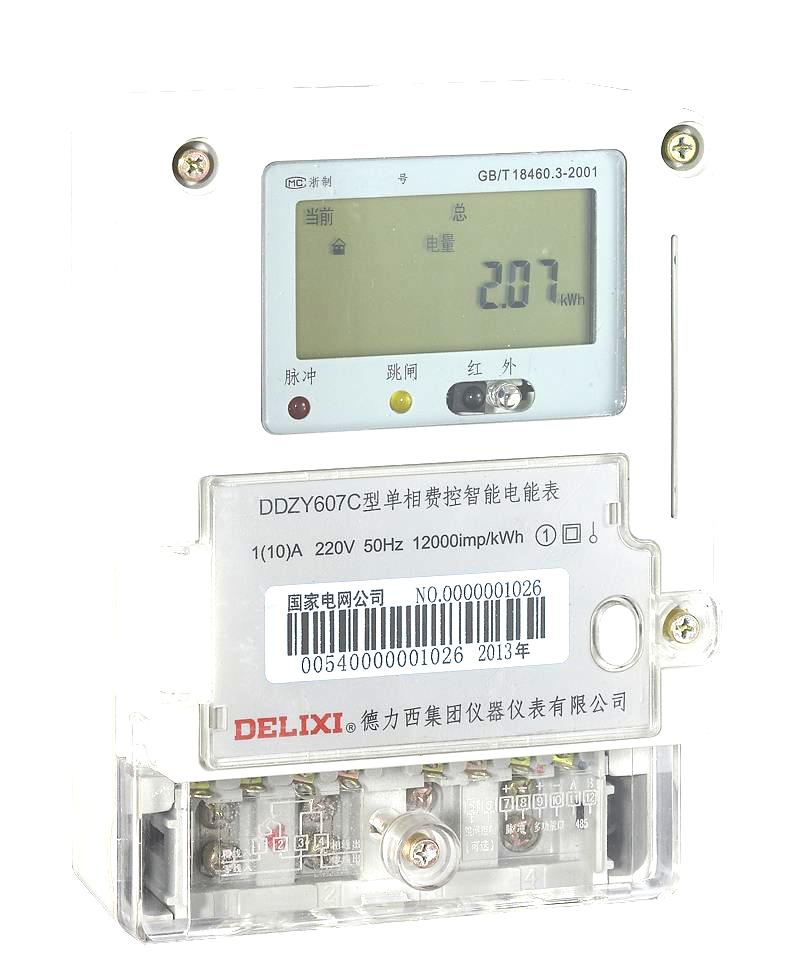digital: (123, 105, 689, 772)
